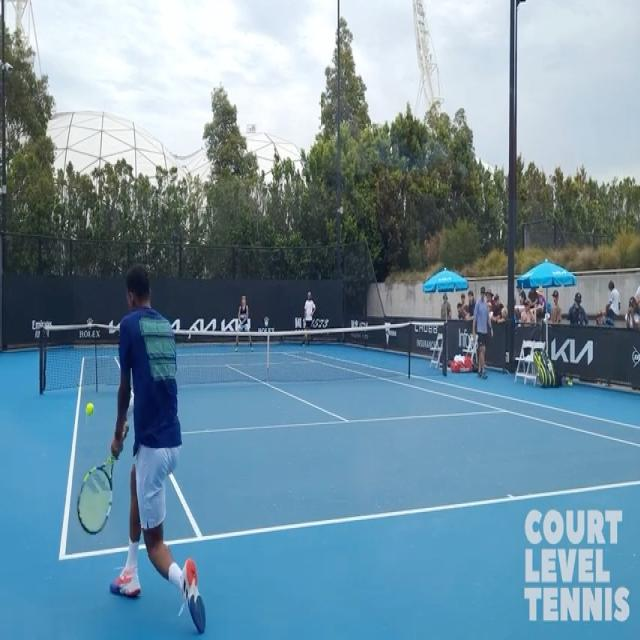backhand-stroke: (78, 269, 218, 634)
